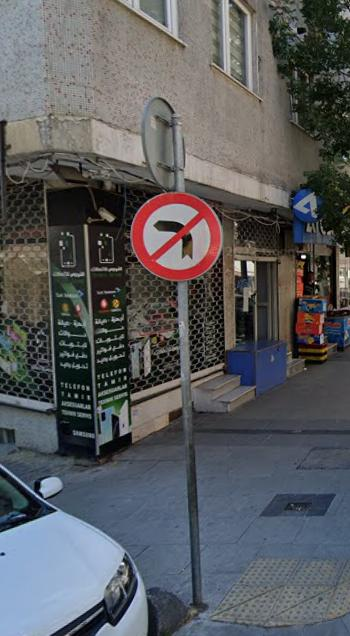leftturnsareforbidden: (135, 196, 221, 279)
